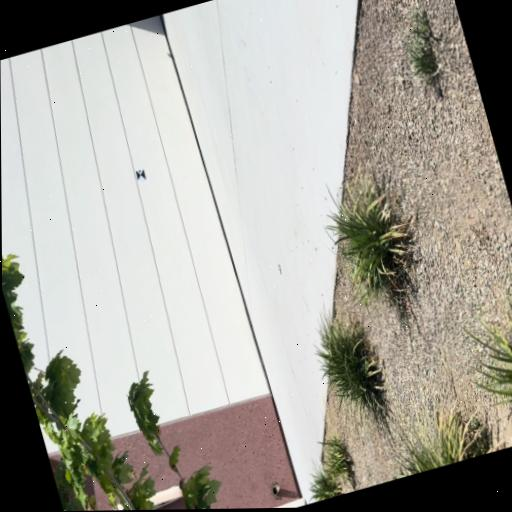target4: (135, 168, 146, 180)
